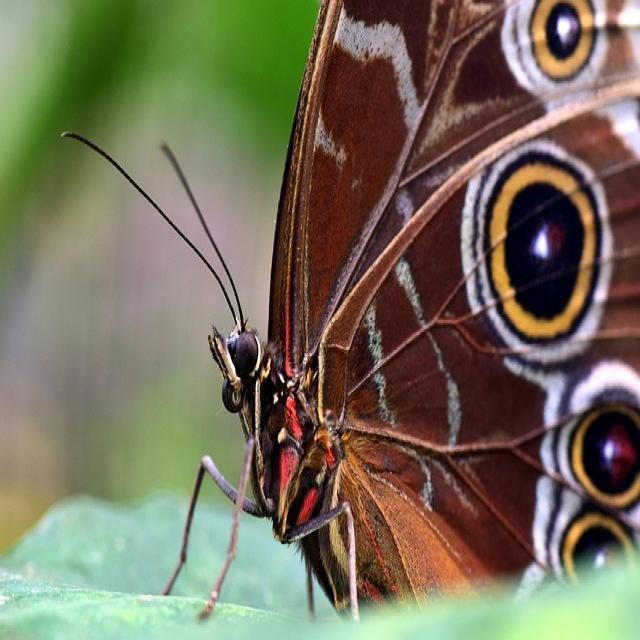butterfly: (212, 0, 640, 619)
